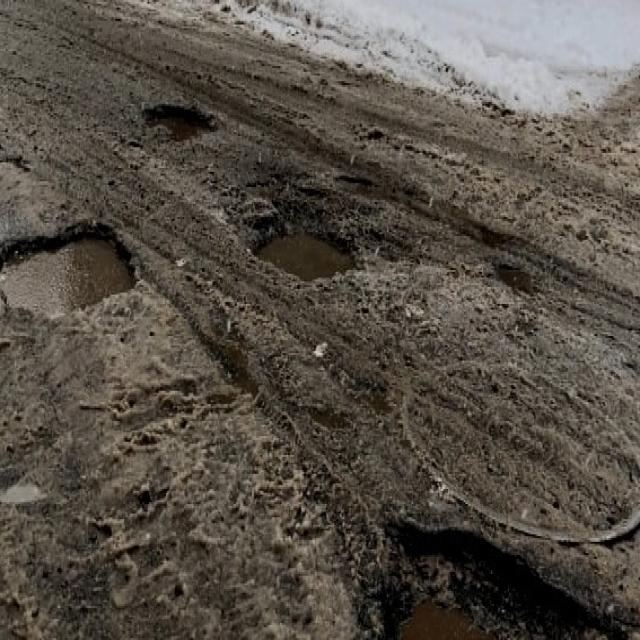road-pothole: (375, 515, 626, 638), (1, 213, 139, 326), (250, 202, 368, 289), (141, 89, 227, 152)
